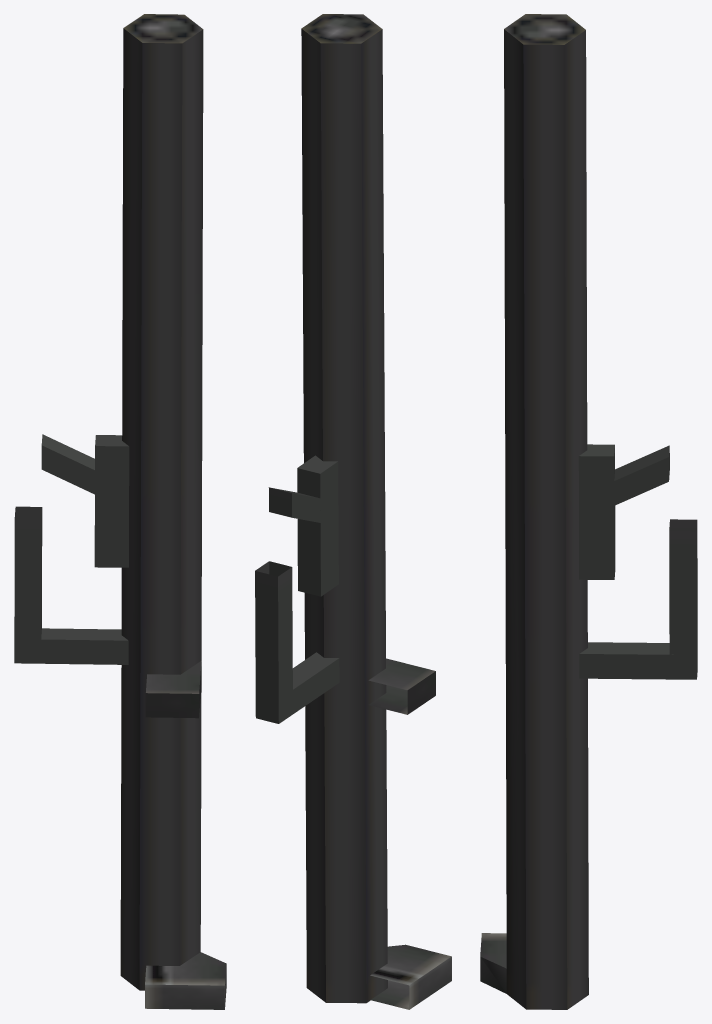
File: schreck.obj
The picture shows the model from 3 angles, left to right: view 1: azimuth 90°, elevation 25°; view 2: azimuth 150°, elevation 25°; view 3: azimuth 270°, elevation 25°; orthographic projection. The views are drawn at different scales.
Parts seen in each view (by area): view 1: g0; view 2: g0; view 3: g0.
Part boxes in pixels (x1,y1,x2,y2): g0: (14, 14, 226, 1009); g0: (255, 14, 451, 1009); g0: (480, 14, 697, 1009).
Size of the model in its own units: 1.55 by 12.91 by 2.63.
1 material, 1 textured.
